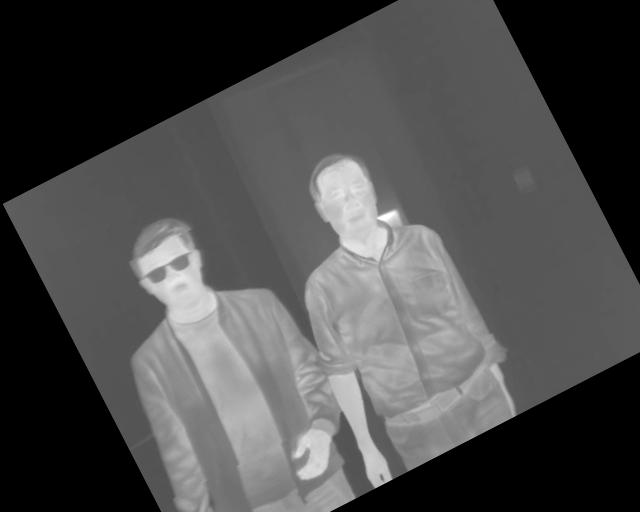face: (115, 206, 223, 324), (293, 140, 396, 255)
